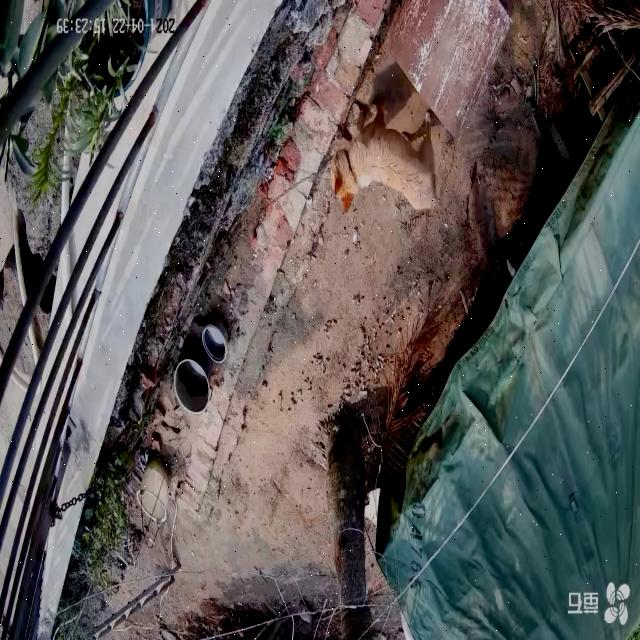dog: (332, 102, 440, 216)
